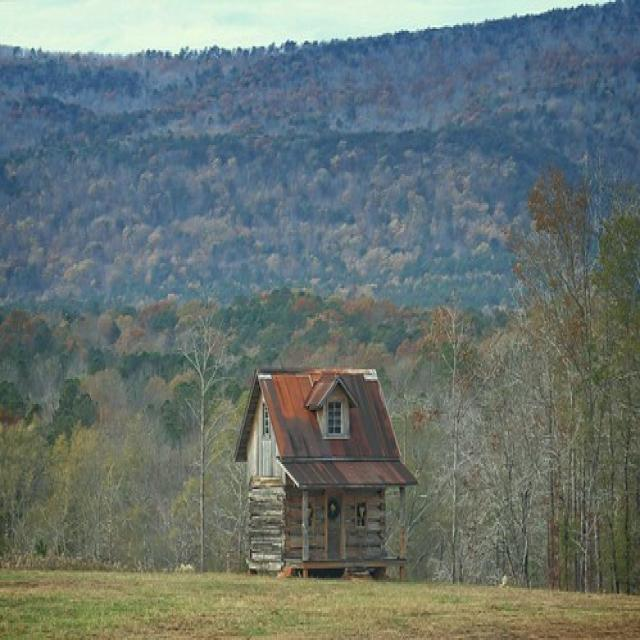Normal_building: (231, 360, 415, 584)
